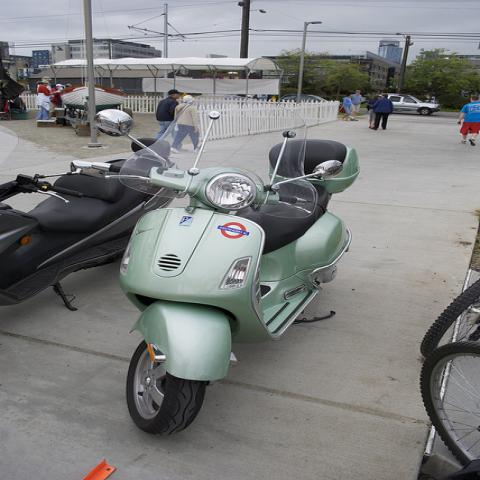car: (387, 94, 442, 115)
motorcycle: (110, 134, 362, 442), (1, 140, 172, 306)
